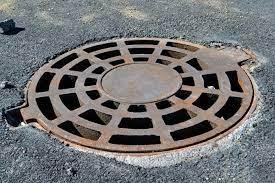open drainage-not overflowing-: (14, 27, 259, 151)
